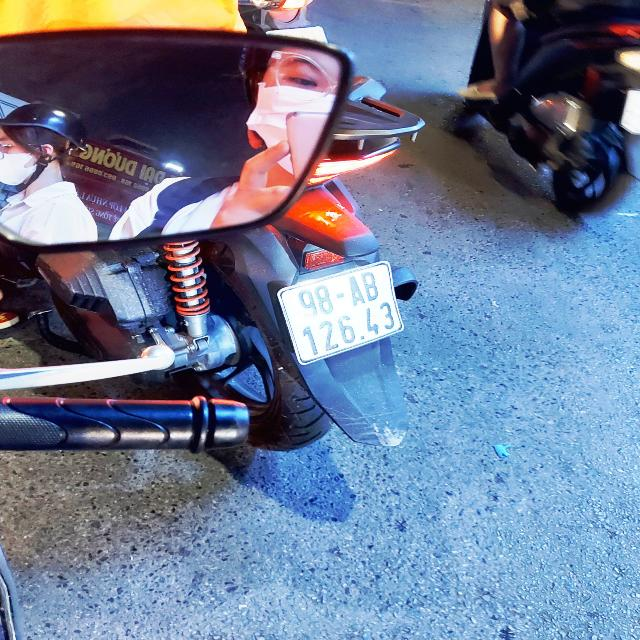license_plate: (273, 257, 409, 370)
